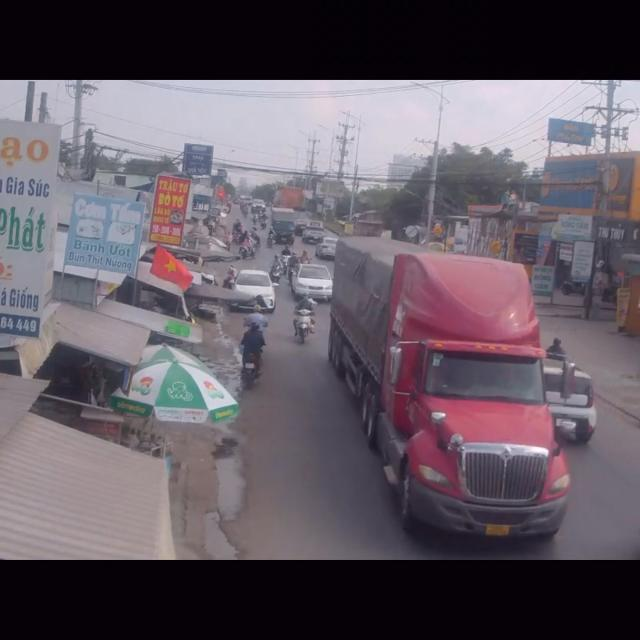car: (544, 362, 598, 447), (293, 262, 332, 304), (232, 270, 274, 309)
motorbike: (238, 315, 264, 390), (290, 292, 314, 342)
truck: (335, 235, 570, 548)
